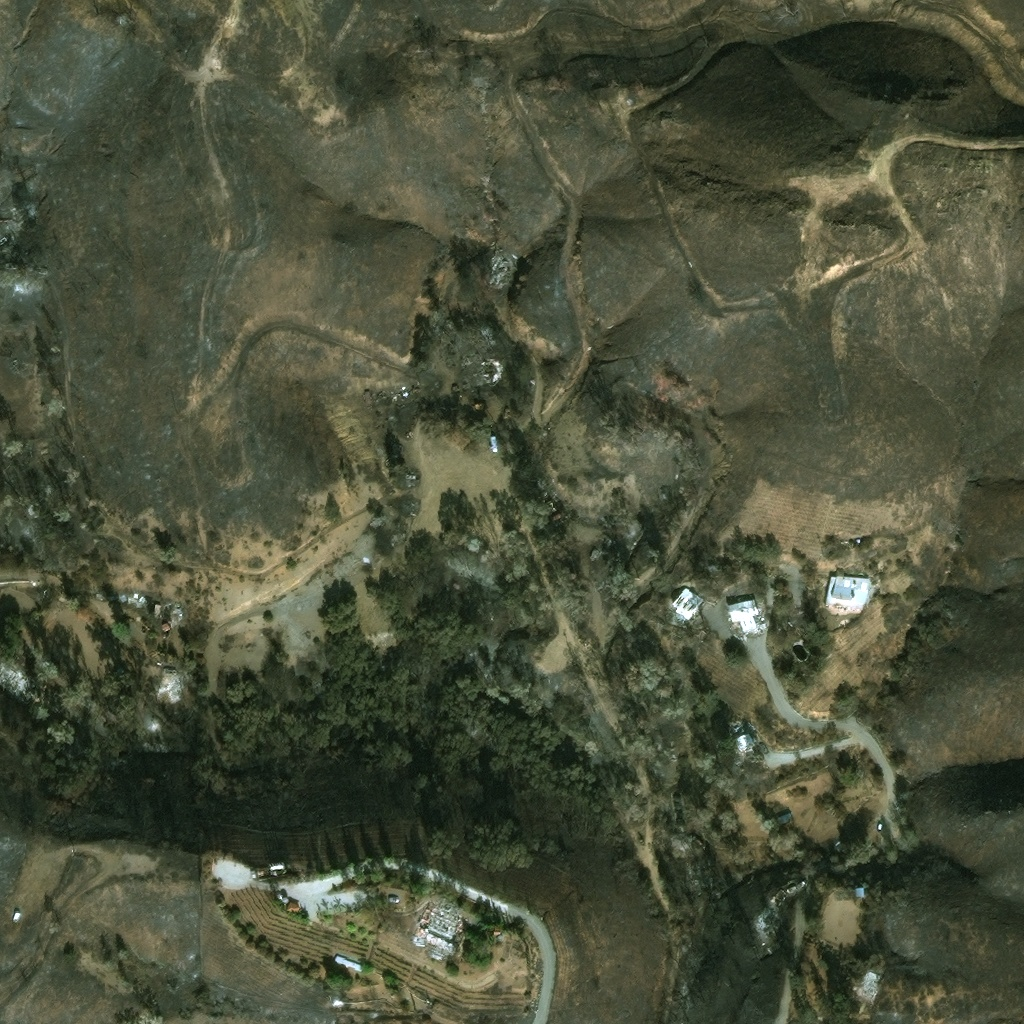0 no-damage: (333, 953, 362, 968), (268, 861, 286, 872), (285, 899, 300, 912), (154, 601, 162, 615), (12, 909, 21, 921), (490, 433, 496, 450), (160, 619, 169, 628), (496, 933, 503, 939), (282, 896, 288, 902), (277, 892, 282, 898), (491, 930, 499, 933)
1 minor-damage: (823, 572, 867, 611), (726, 595, 762, 631), (670, 584, 701, 618), (729, 722, 758, 756), (777, 808, 792, 822)
3 destroyed: (411, 897, 469, 952), (8, 666, 36, 696), (752, 903, 779, 930), (113, 588, 148, 607), (460, 348, 483, 372), (154, 679, 179, 699), (142, 732, 169, 750), (833, 884, 864, 899), (860, 966, 880, 989), (494, 250, 514, 272), (488, 356, 506, 373), (551, 509, 566, 525), (687, 828, 703, 843), (607, 560, 619, 577), (542, 497, 555, 512), (708, 557, 722, 567), (621, 537, 631, 550), (164, 664, 175, 671), (387, 385, 396, 393), (529, 372, 535, 382), (678, 813, 685, 821), (673, 790, 681, 797), (397, 382, 405, 388), (365, 388, 370, 397), (676, 807, 683, 813), (381, 386, 386, 394), (675, 797, 681, 802), (676, 803, 681, 808)
4 un-classified: (377, 886, 386, 893)
